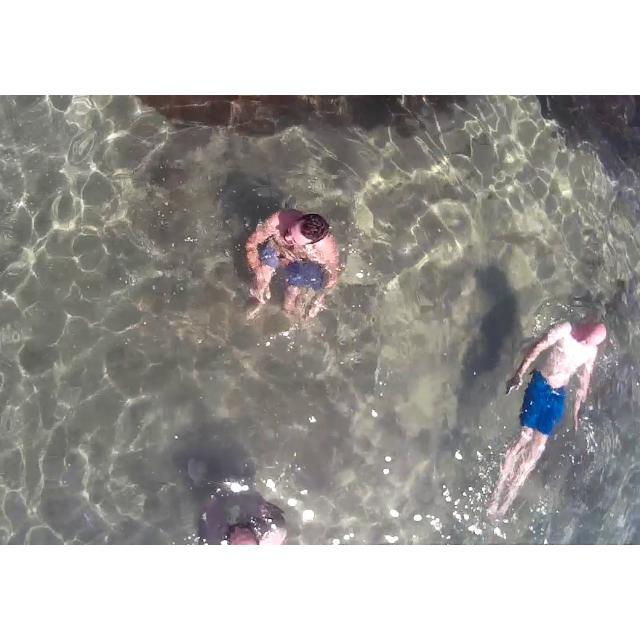human: (514, 286, 618, 506), (232, 181, 353, 319)
